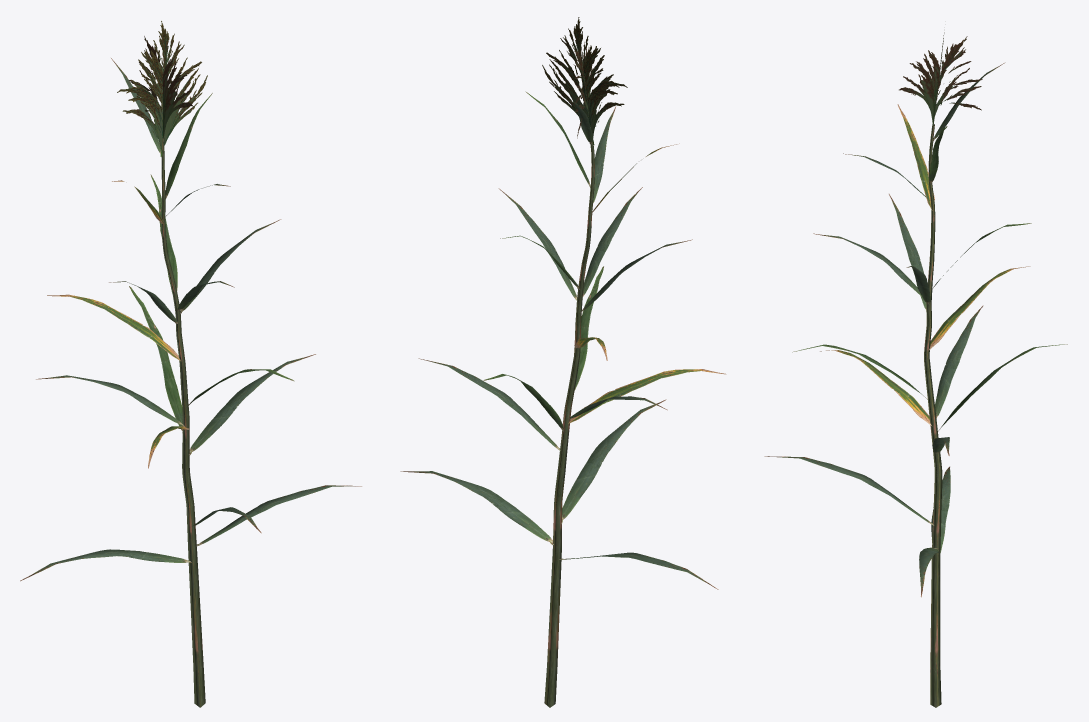
File: valley-reed-2.glb
3 views of the same model, side by side, from view 1: azimuth 30°, elevation 25°; view 2: azimuth 150°, elevation 25°; view 3: azimuth 270°, elevation 25° (orthographic). The views are drawn at different scales.
Visible parts, largest first — view 1: valley-reed-2; view 2: valley-reed-2; view 3: valley-reed-2.
Part boxes in pixels (x1,y1,x2,y2): valley-reed-2: (20, 21, 361, 707); valley-reed-2: (400, 17, 726, 707); valley-reed-2: (764, 32, 1067, 707).
Size of the model in its own units: 0.9179 by 1.8 by 0.7638.
2 materials, 2 textured.
